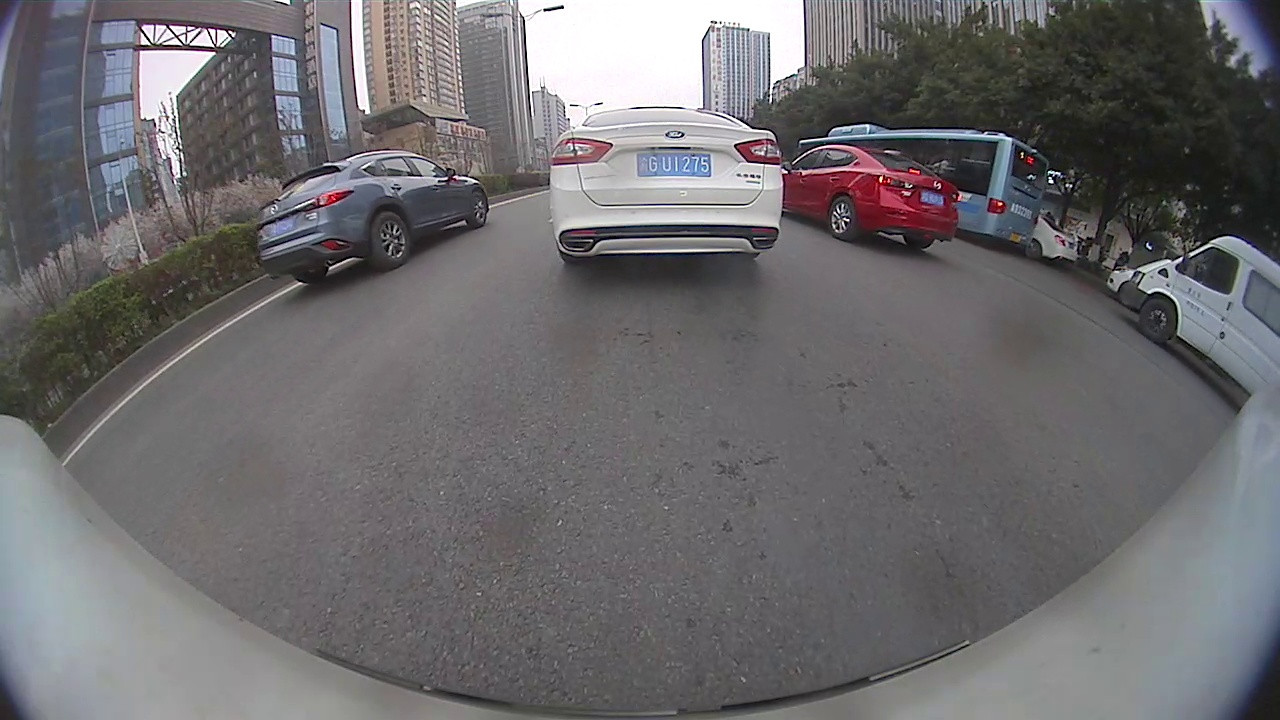bus: (799, 123, 1050, 247)
car: (548, 107, 785, 262), (252, 148, 491, 283), (1123, 236, 1279, 395), (785, 143, 961, 251), (1029, 216, 1079, 265), (1103, 264, 1136, 297)
front: (1137, 295, 1178, 344), (469, 191, 488, 229)
rear: (367, 209, 410, 271), (826, 192, 859, 240)
